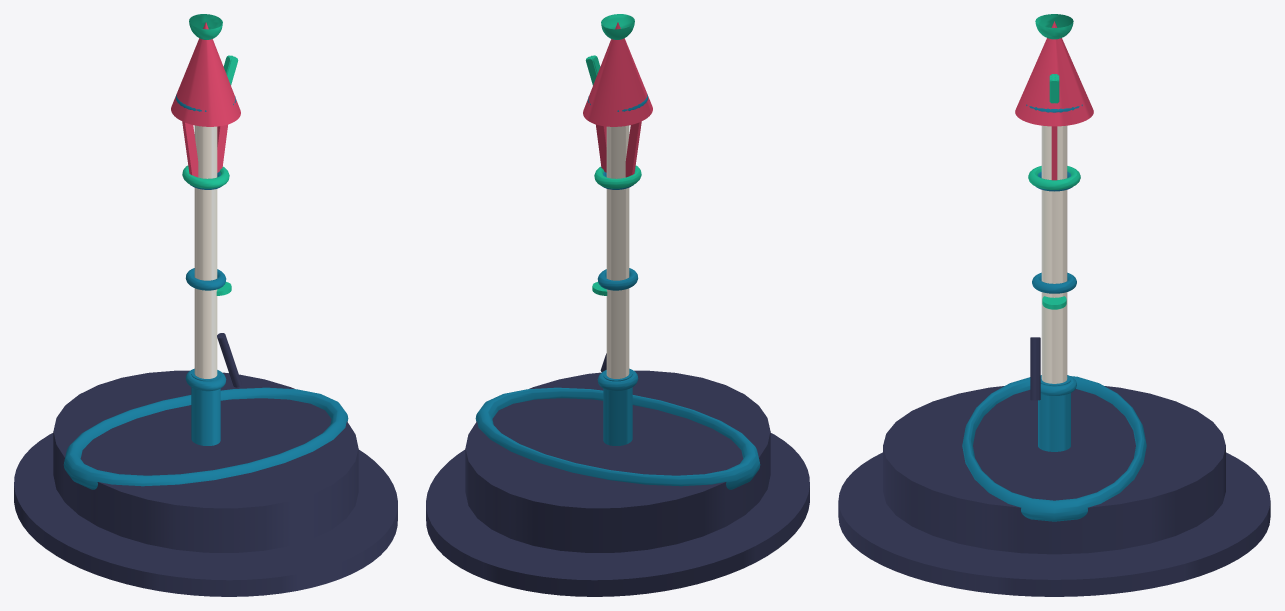
File: 0571_伟大的发明图鉴_野败.glb
3 renders of one model, left to right at view 1: azimuth 30°, elevation 25°; view 2: azimuth 150°, elevation 25°; view 3: azimuth 270°, elevation 25°, orthographic.
Visible parts, largest first — view 1: card_0571; view 2: card_0571; view 3: card_0571.
Part boxes in pixels (x1=…): card_0571: x1=14, y1=14, x2=397, y2=596; card_0571: x1=426, y1=14, x2=809, y2=596; card_0571: x1=838, y1=14, x2=1270, y2=596.
Size of the model in its own units: 0.6858 by 1 by 0.7885.
